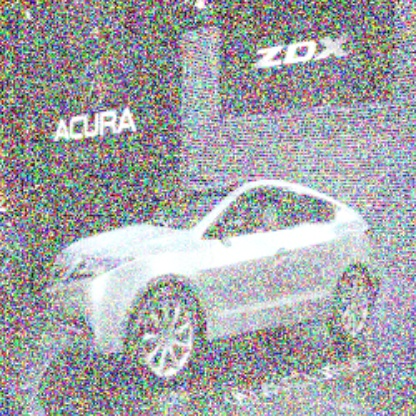Vehicle: (45, 174, 385, 382)
